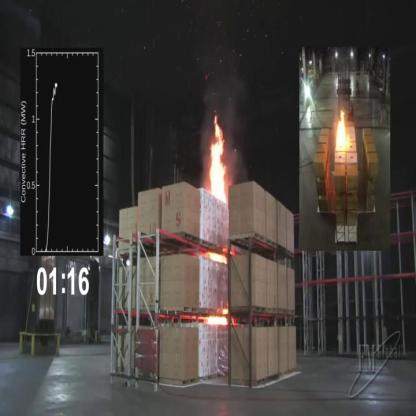fire: (206, 113, 231, 210)
